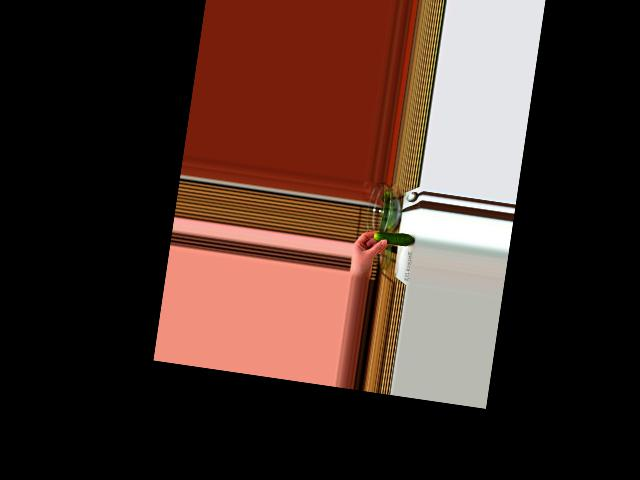cucumber: (373, 229, 415, 247)
